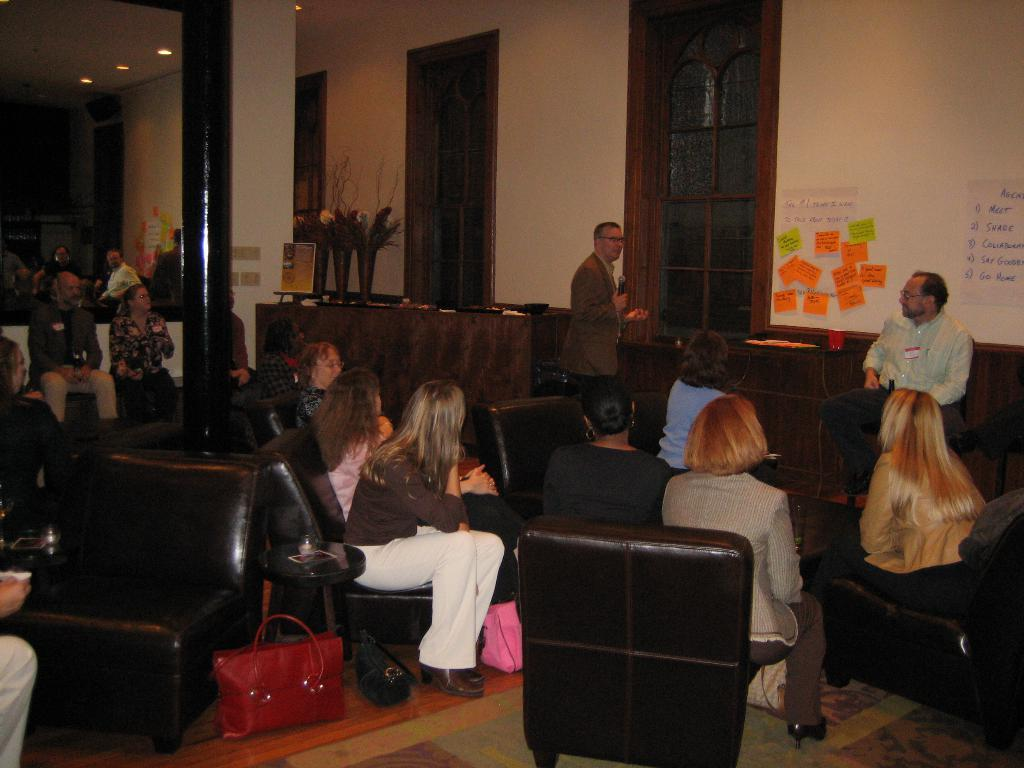Chair: (13, 444, 264, 760), (527, 513, 788, 758), (818, 479, 1023, 737), (277, 417, 479, 667), (474, 388, 595, 548), (29, 348, 107, 436), (107, 360, 179, 424), (253, 388, 307, 433)
